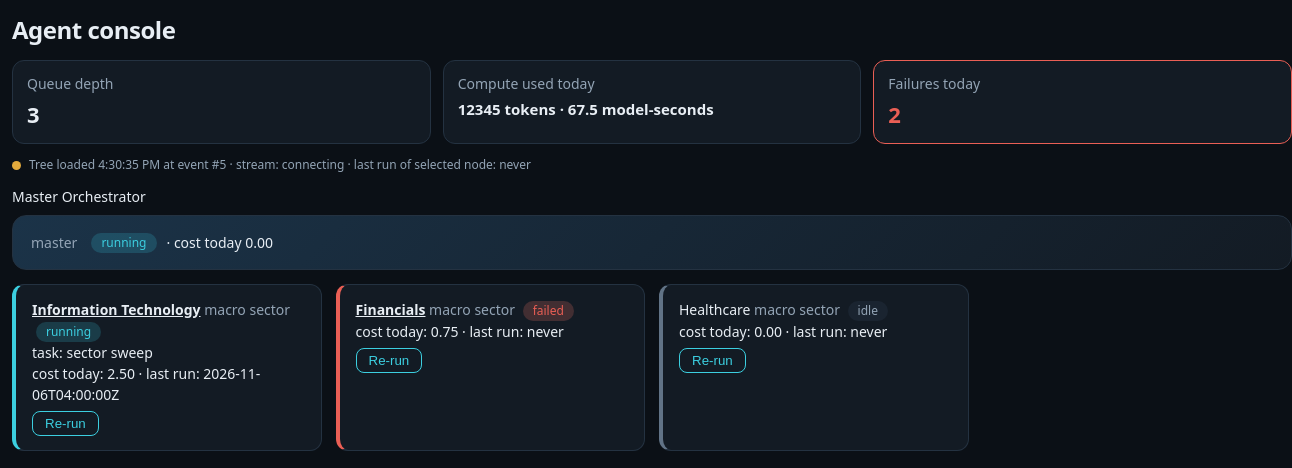
agent console › clicking a node drills down one level and shows its children
Click the button with aria-label "open Information Technology".
click(116, 310)  # box top-left (32, 299), bottom-right (201, 320)
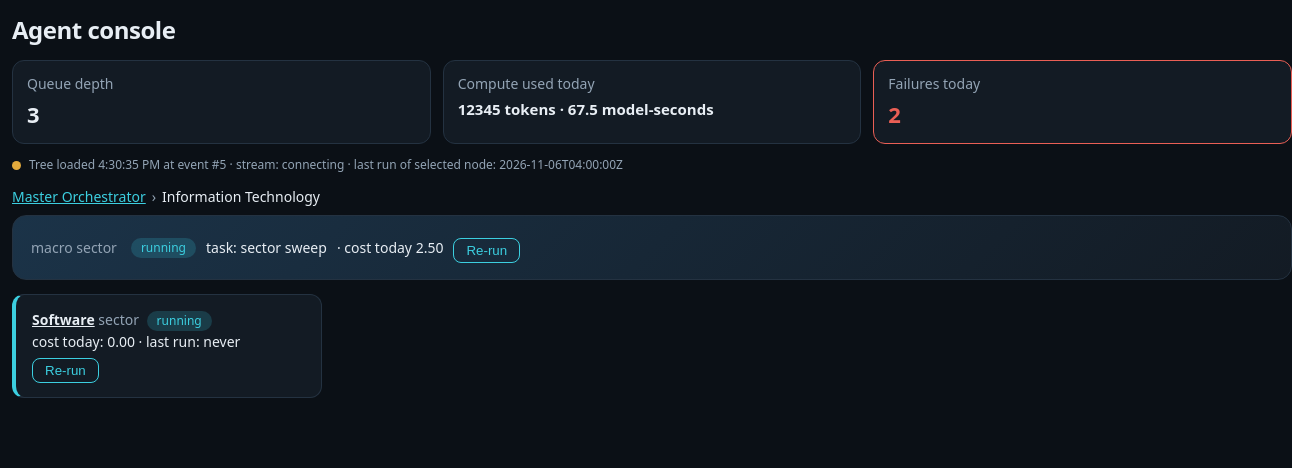
expect the text "Software" is shown: met, box top-left (32, 310), bottom-right (95, 329)
expect the button "Financials" is gone: met
expect the text "Healthcare" is gone: met
Click the button "Master Orchestrator".
click(79, 196)  # box top-left (12, 186), bottom-right (146, 207)
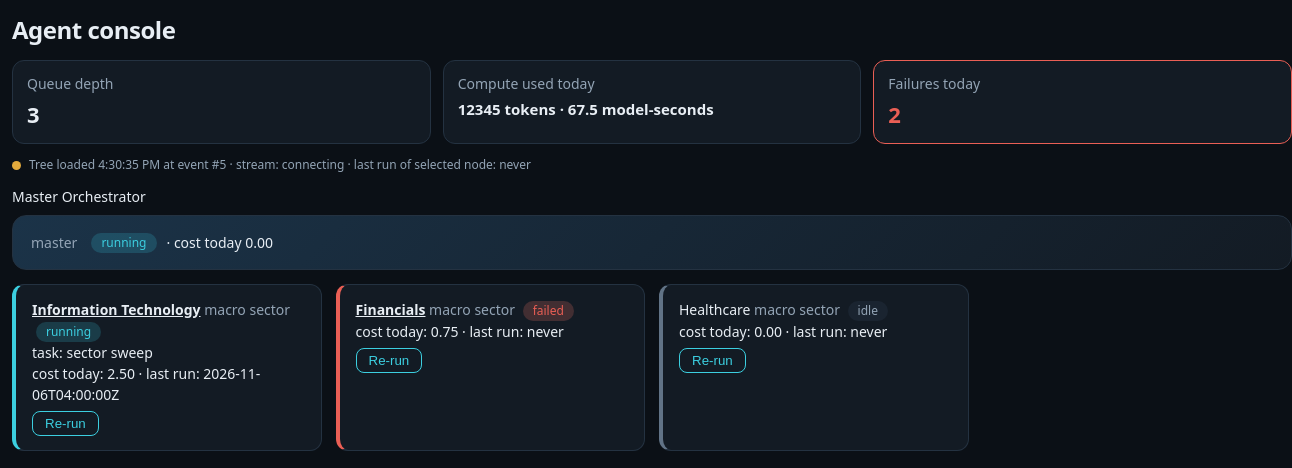
expect the text "Financials" is shown: met
expect the button "Software" is gone: met
Note: a second drill goes one more level only
Click the button with aria-label "open Financials".
click(390, 310)  # box top-left (356, 299), bottom-right (426, 320)
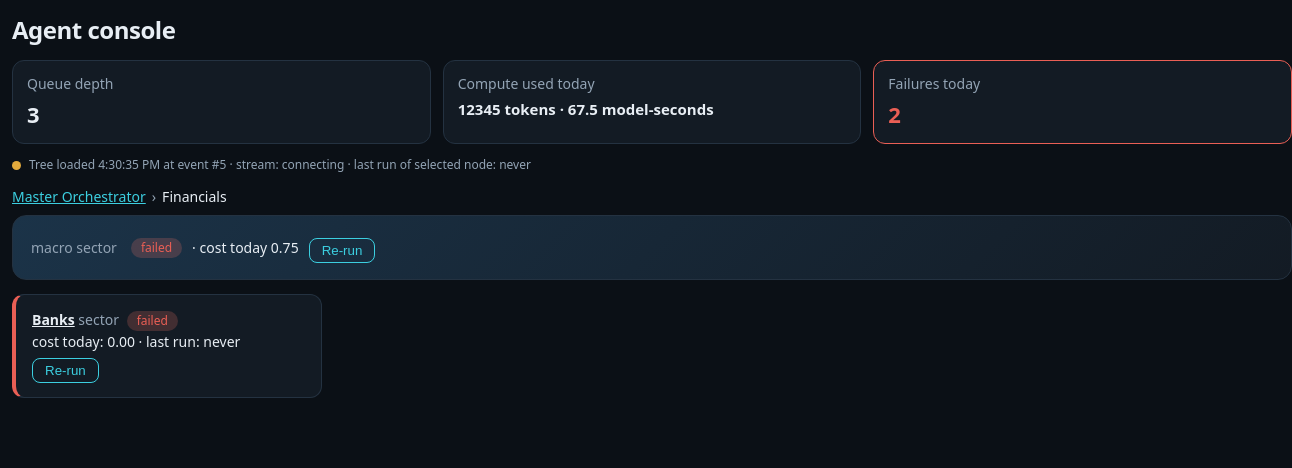
expect the button "Software" is not shown: met
expect the text "Banks" is shown: met, box top-left (32, 310), bottom-right (75, 329)
